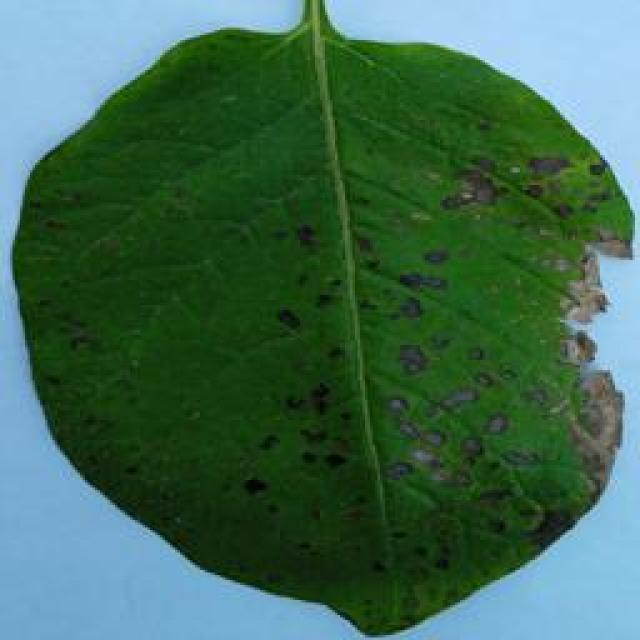Potato_Early_Blight: (4, 13, 634, 636)
